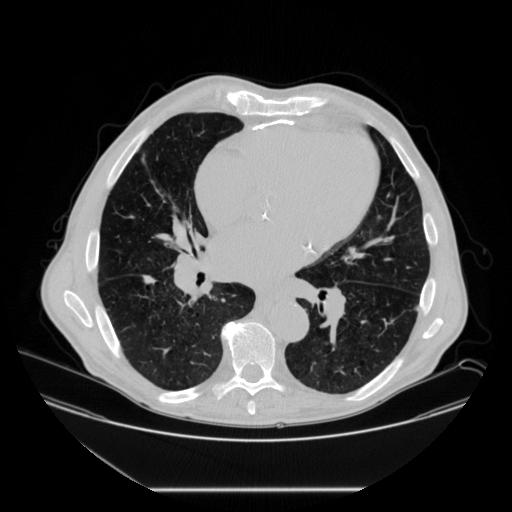nodule: (142, 272, 156, 286)
